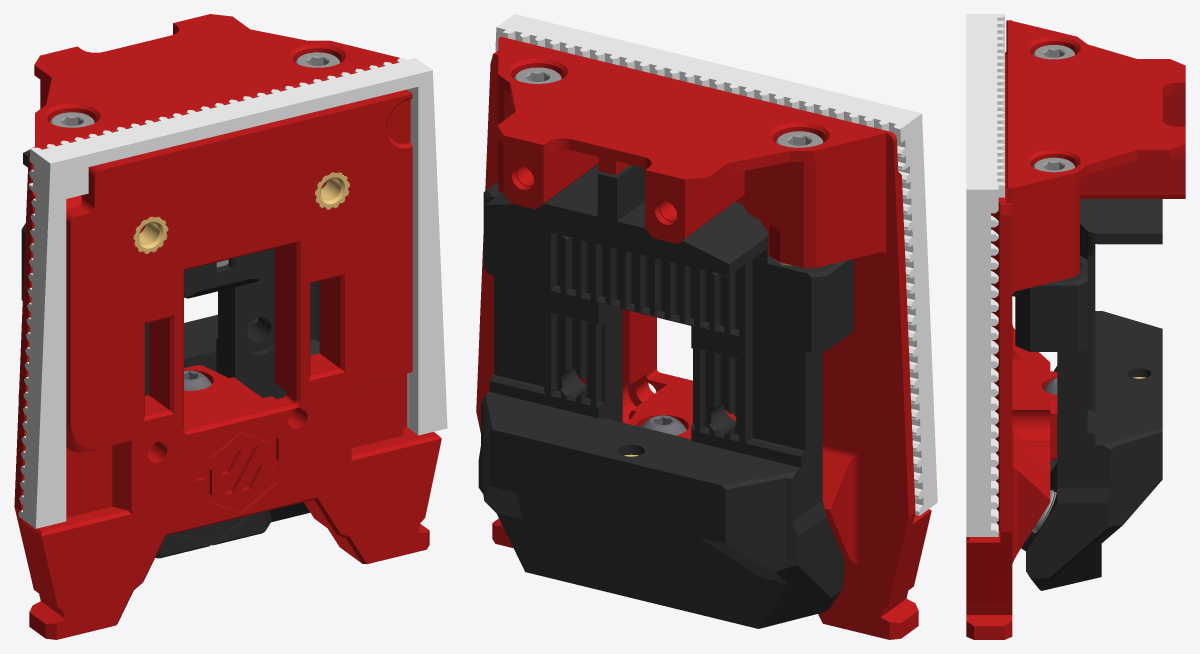
Rendered from JabberWocky.gltf.
The picture shows the model from 3 angles, left to right: view 1: azimuth 30°, elevation 25°; view 2: azimuth 150°, elevation 25°; view 3: azimuth 270°, elevation 25°; orthographic projection. The views are drawn at different scales.
Parts seen in each view (by area): view 1: Backplate, Supports, Shuttle MGN12, M3 Heat Inserts, M3 Heat Inserts001; view 2: Shuttle MGN12, Backplate, Supports; view 3: Backplate, Shuttle MGN12, Supports, Top Pins With Screws002, Top Pins With Screws003.
Boxes of the visible parts, x1,y1,x2,y2 form: Backplate: (14, 14, 441, 639); Supports: (18, 58, 447, 528); Shuttle MGN12: (18, 149, 319, 558); M3 Heat Inserts: (315, 172, 349, 209); M3 Heat Inserts001: (133, 216, 168, 253); Shuttle MGN12: (478, 164, 853, 628); Backplate: (476, 36, 931, 639); Supports: (495, 14, 937, 515); Backplate: (966, 20, 1185, 639); Shuttle MGN12: (1012, 199, 1162, 590); Supports: (966, 14, 1004, 536); Top Pins With Screws002: (1033, 45, 1074, 59); Top Pins With Screws003: (1033, 157, 1074, 172).
Bounding box in the file's own units: 0.0587 × 0.0651 × 0.0287.
